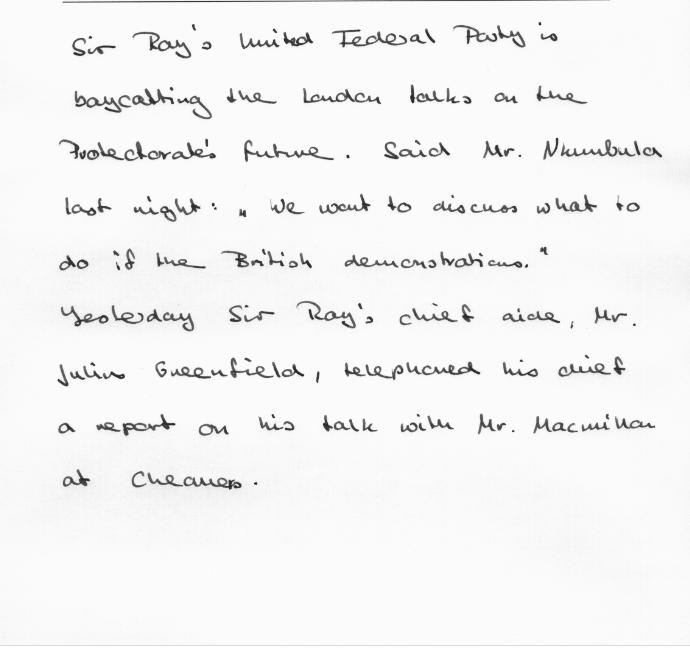text: (69, 15, 562, 64), (54, 350, 629, 390), (58, 298, 637, 336), (71, 82, 589, 124), (56, 134, 665, 166), (61, 191, 642, 224), (55, 411, 659, 442), (56, 243, 551, 276), (60, 467, 260, 493)
